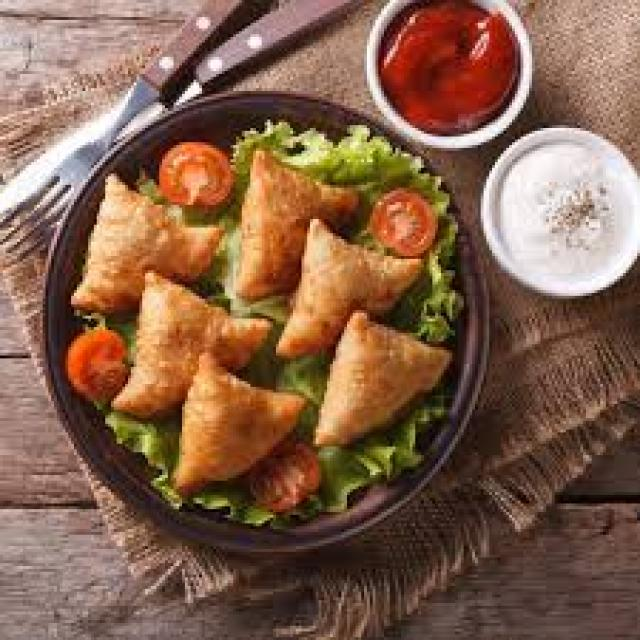SAMOSA: (107, 270, 276, 425), (69, 170, 225, 317), (271, 221, 428, 362), (308, 304, 457, 450), (230, 148, 361, 306), (172, 347, 307, 495)
